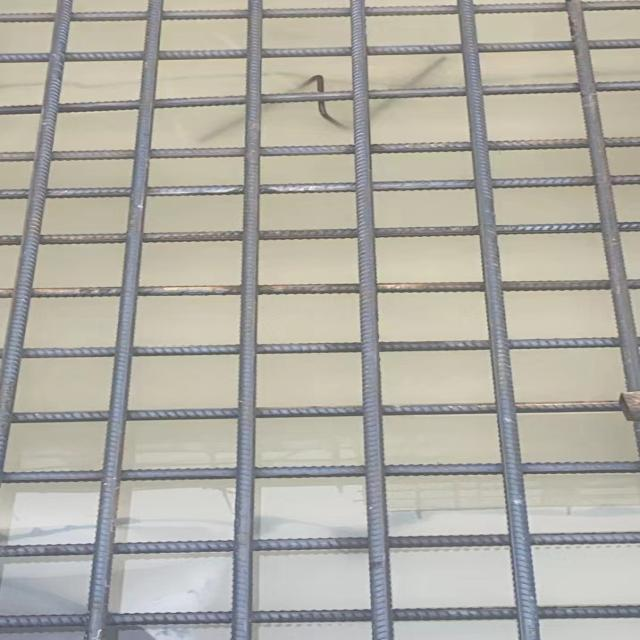ribbed bar: (455, 0, 541, 639), (84, 0, 163, 639), (0, 0, 73, 469), (562, 0, 638, 437), (350, 0, 393, 639), (227, 0, 263, 639), (0, 80, 638, 115), (0, 37, 638, 63), (0, 136, 638, 162), (0, 174, 638, 200), (0, 220, 638, 244), (0, 459, 638, 483), (0, 532, 638, 556), (9, 399, 638, 423), (0, 0, 638, 23), (0, 606, 638, 628), (0, 278, 638, 299), (0, 338, 638, 359)
